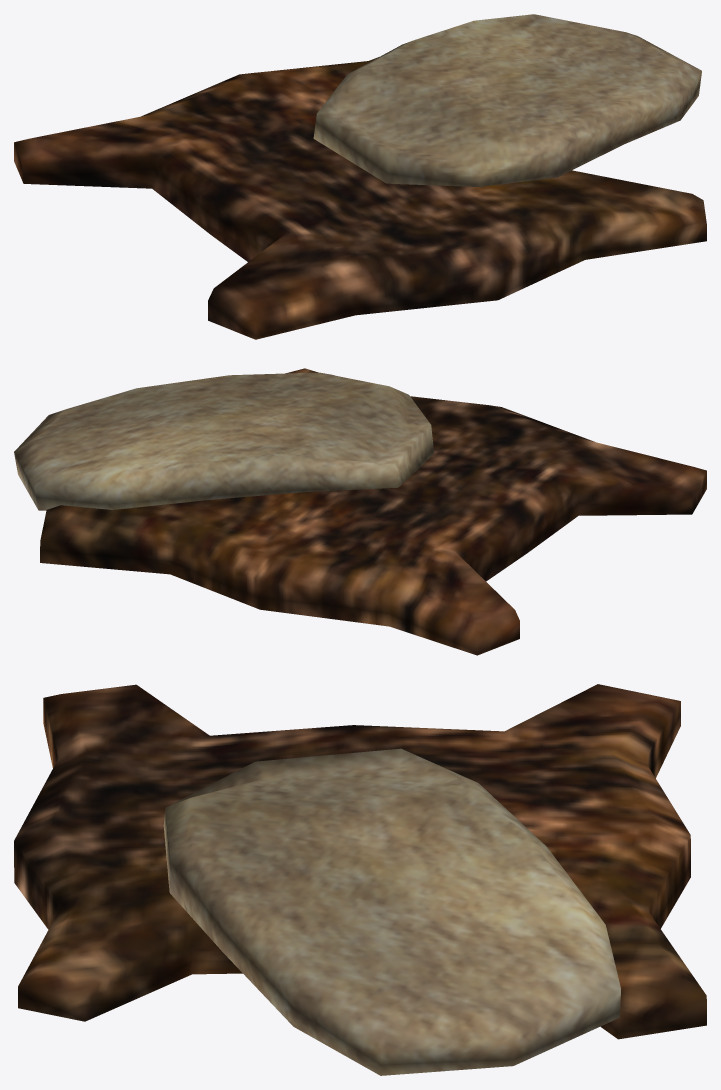
File: fur.fbx
The picture shows the model from 3 angles, top to bottom: view 1: azimuth 30°, elevation 25°; view 2: azimuth 150°, elevation 25°; view 3: azimuth 270°, elevation 25°; orthographic projection. The views are drawn at different scales.
Parts seen in each view (by area): view 1: fur; view 2: fur; view 3: fur.
Part boxes in pixels (bbox=[...]): fur: bbox=[14, 14, 706, 339]; fur: bbox=[14, 368, 706, 655]; fur: bbox=[14, 684, 706, 1075].
Size of the model in its own units: 0.8576 by 0.1331 by 0.6651.
